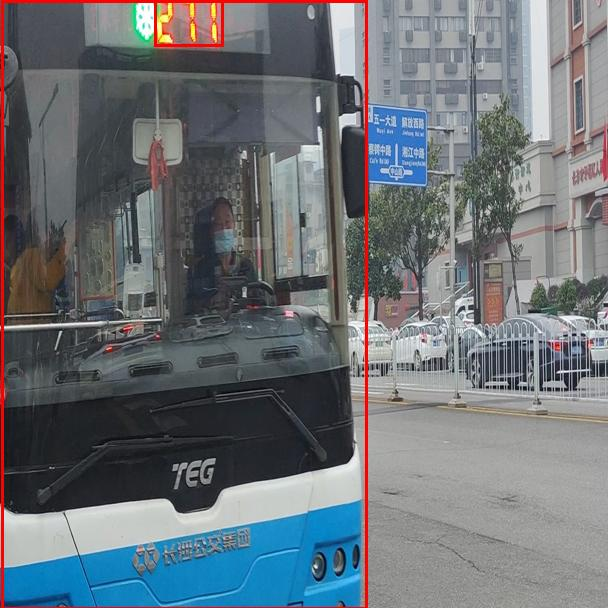bus: (1, 0, 367, 608)
screen: (154, 0, 223, 46)
